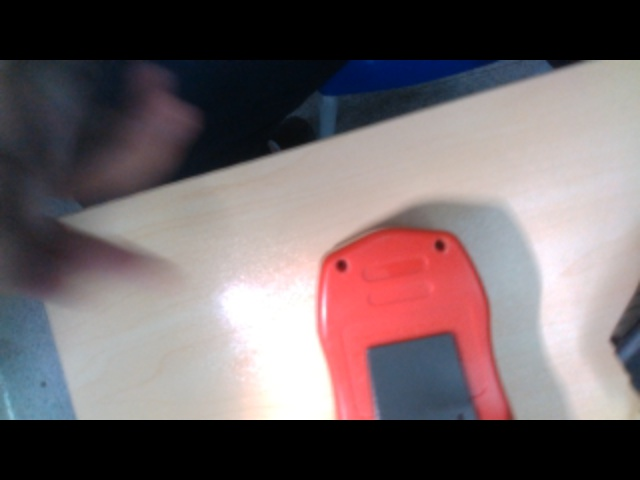Screw holes: (430, 239, 452, 254), (336, 260, 349, 272)
